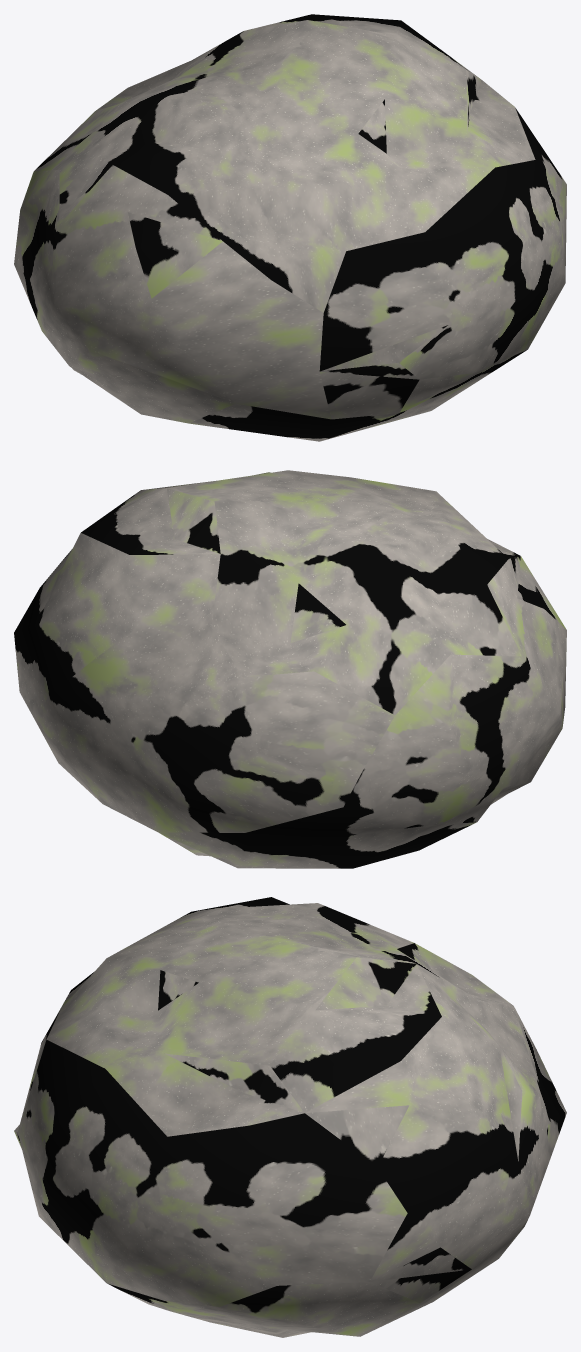
File: rock_formation_r3_v3.glb
The picture shows the model from 3 angles, top to bottom: view 1: azimuth 30°, elevation 25°; view 2: azimuth 150°, elevation 25°; view 3: azimuth 270°, elevation 25°; orthographic projection. The views are drawn at different scales.
Visible parts, largest first — view 1: rock_formation_lp; view 2: rock_formation_lp; view 3: rock_formation_lp.
Boxes of the visible parts, bbox=[...] form: rock_formation_lp: bbox=[14, 14, 566, 441]; rock_formation_lp: bbox=[14, 470, 566, 868]; rock_formation_lp: bbox=[14, 897, 566, 1337].
Bounding box in the file's own units: 3.68 × 2.47 × 3.44.
Materials: 1 (1 with a texture image).
